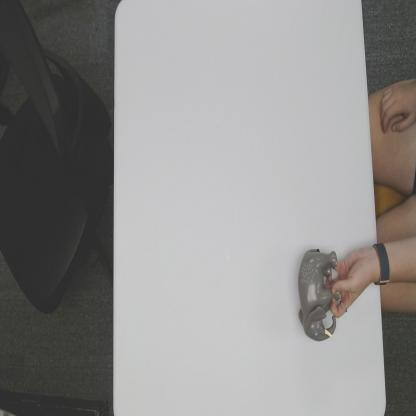Elephant: (296, 246, 342, 343)
Hand: (327, 244, 373, 319)
